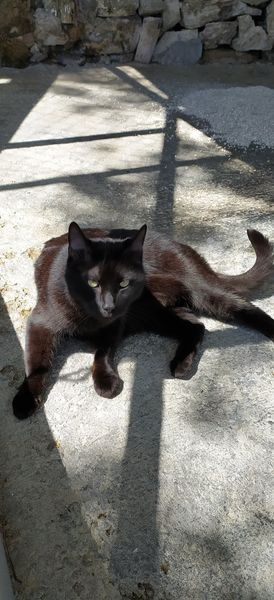cat: (11, 204, 268, 414)
